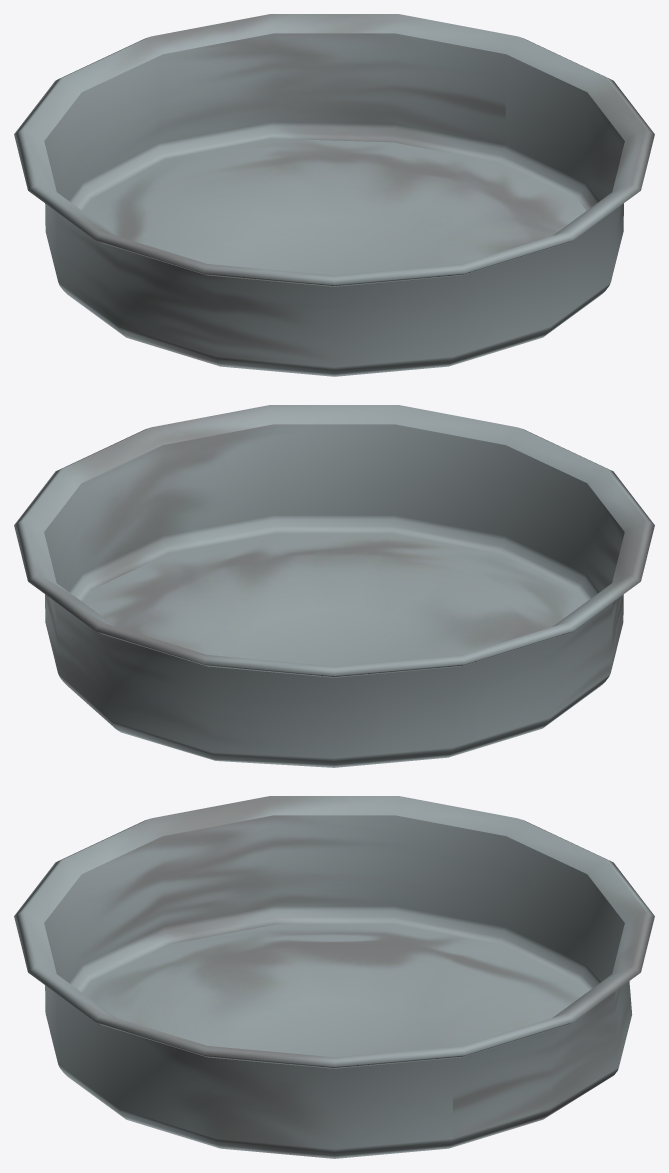
File: tarai01.fbx
The picture shows the model from 3 angles, top to bottom: view 1: azimuth 30°, elevation 25°; view 2: azimuth 150°, elevation 25°; view 3: azimuth 270°, elevation 25°; orthographic projection.
Parts seen in each view (by area): view 1: tarai; view 2: tarai; view 3: tarai.
Part boxes in pixels (left/top/right/bottom): tarai: left=14, top=14, right=654, bottom=376; tarai: left=14, top=405, right=654, bottom=767; tarai: left=14, top=796, right=654, bottom=1158.
Bounding box in the file's own units: 22.46 × 4.49 × 22.58.
